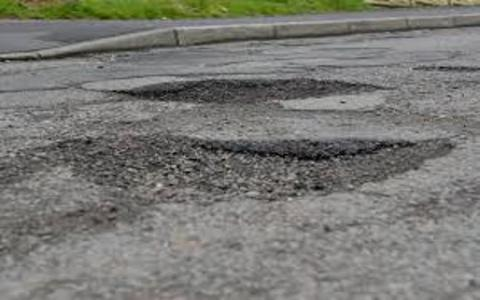patchy roads: (103, 100, 447, 233)
